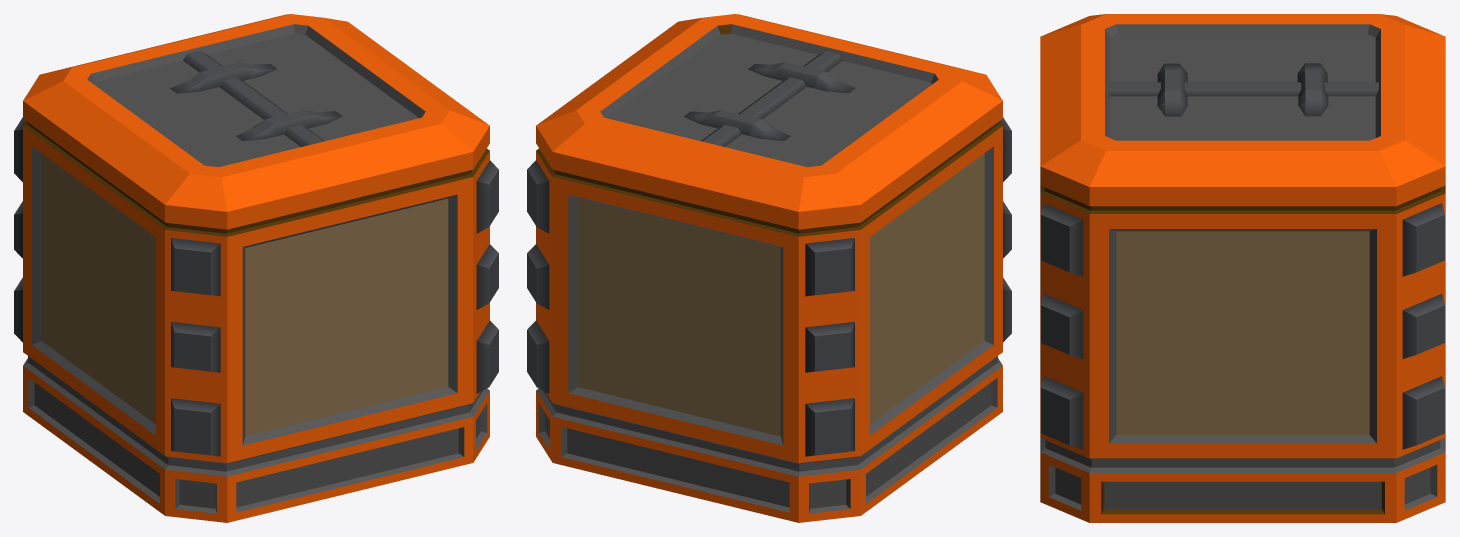
The model's file is CaixaGrande.fbx.
The picture shows the model from 3 angles, left to right: view 1: azimuth 30°, elevation 25°; view 2: azimuth 150°, elevation 25°; view 3: azimuth 270°, elevation 25°; orthographic projection. The views are drawn at different scales.
Visible parts, largest first — view 1: Crate00.001; view 2: Crate00.001; view 3: Crate00.001.
Part boxes in pixels (x1,y1,x2,y2): Crate00.001: (14, 14, 498, 522); Crate00.001: (527, 14, 1011, 522); Crate00.001: (1040, 14, 1445, 522).
Bounding box in the file's own units: 1.95 × 1.9 × 1.95.
